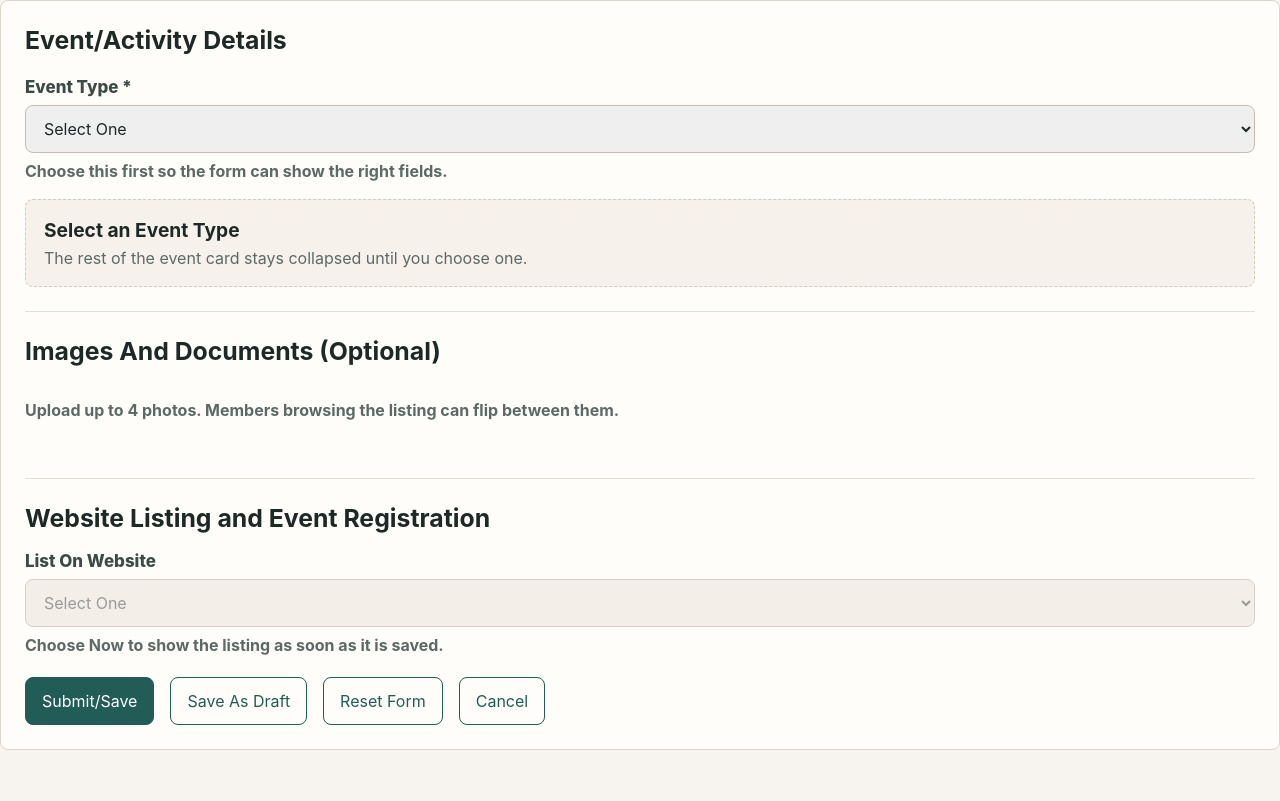
Test: EventForm payment type checkboxes › preserves the entered cost when switching Online -> Free -> Online instead of silently zeroing it
Select "Workshop" in the dropdown labelled "Event Type": (640, 129) [25,105,1255,153]
(page scrolled)
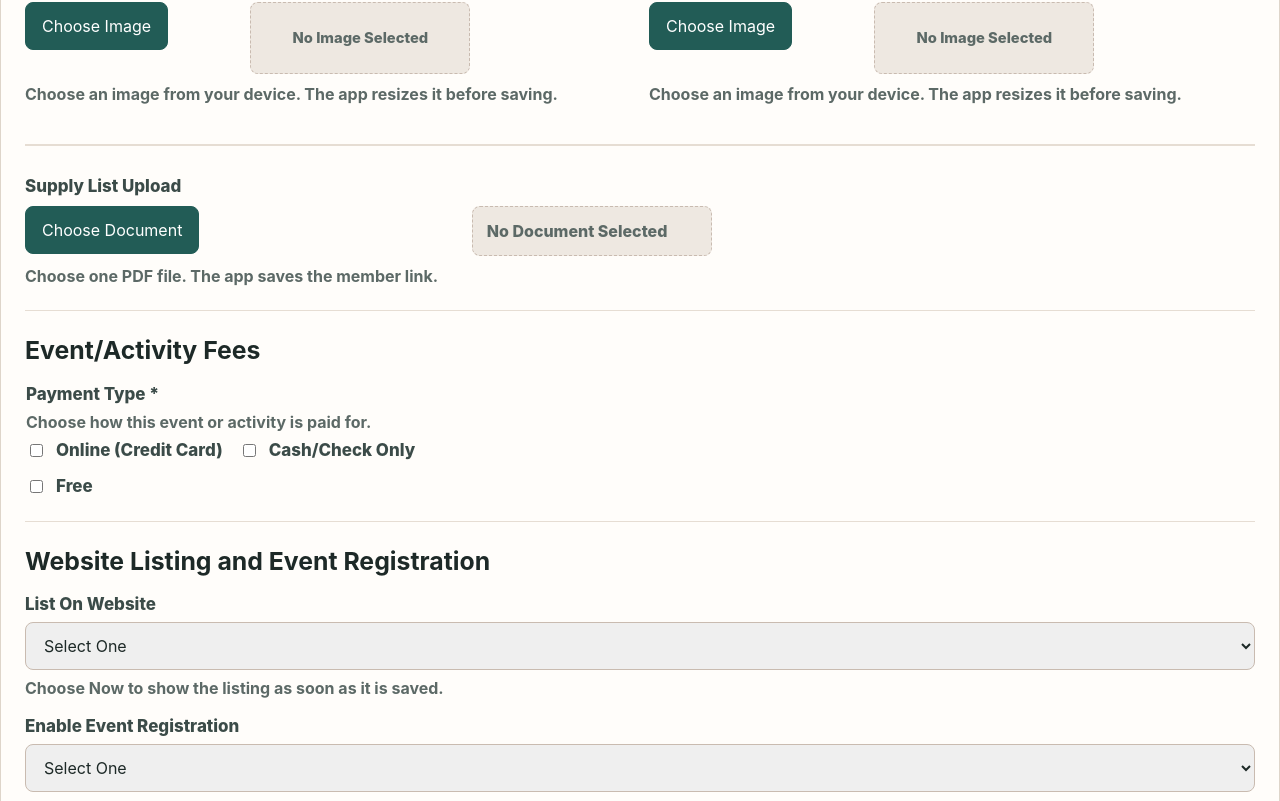
Click the checkbox labelled "Online (Credit Card)": (36, 450) [30,444,43,456]
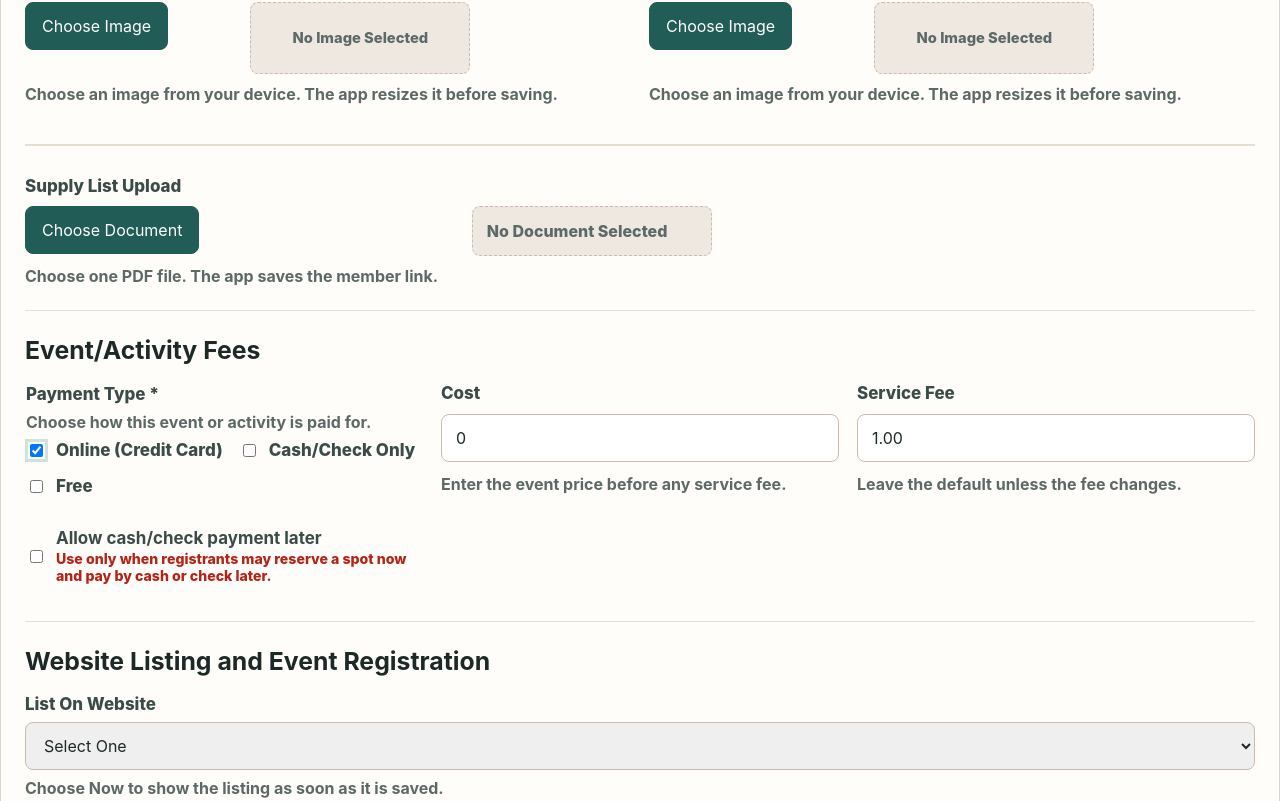
Replace the text in the number field labelled "Cost Enter the event price before any service fee." with "70": (640, 438) [441,414,839,462]
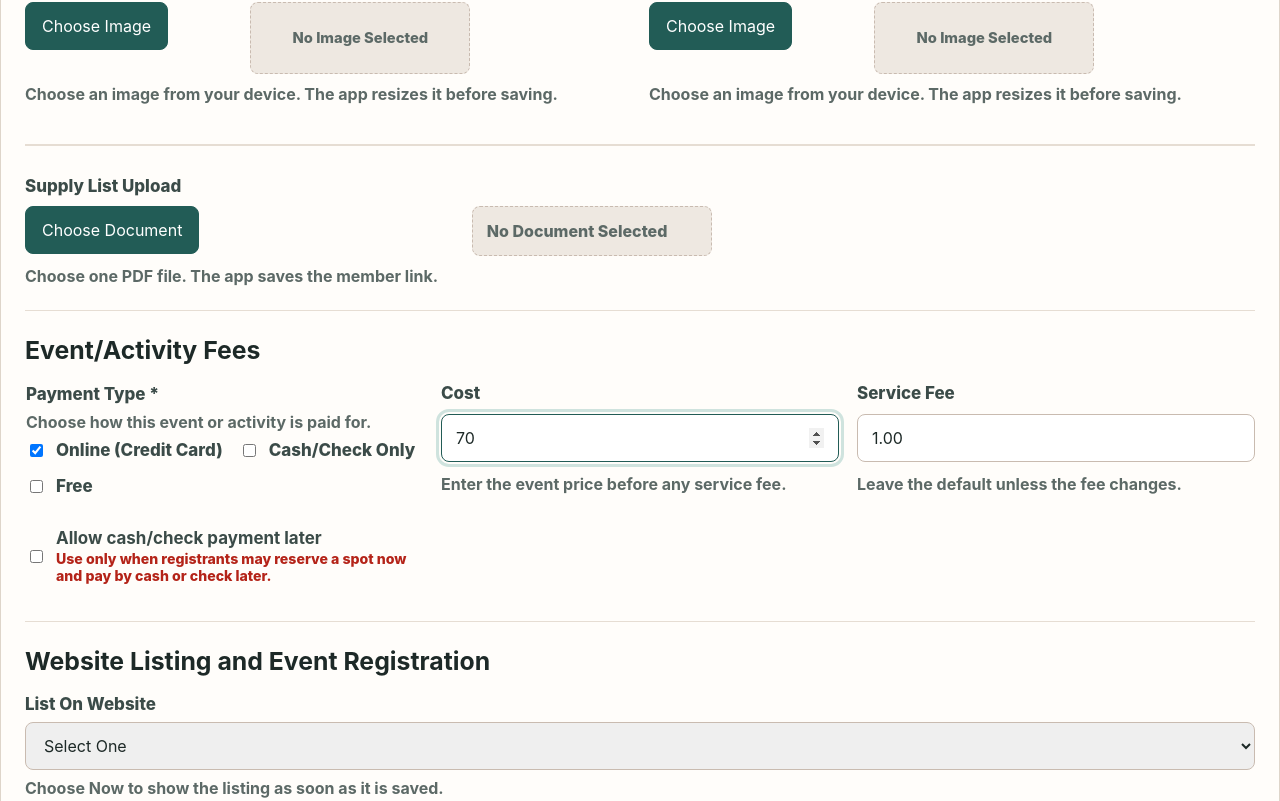
Click the checkbox labelled "Free": (36, 486) [30,480,43,492]
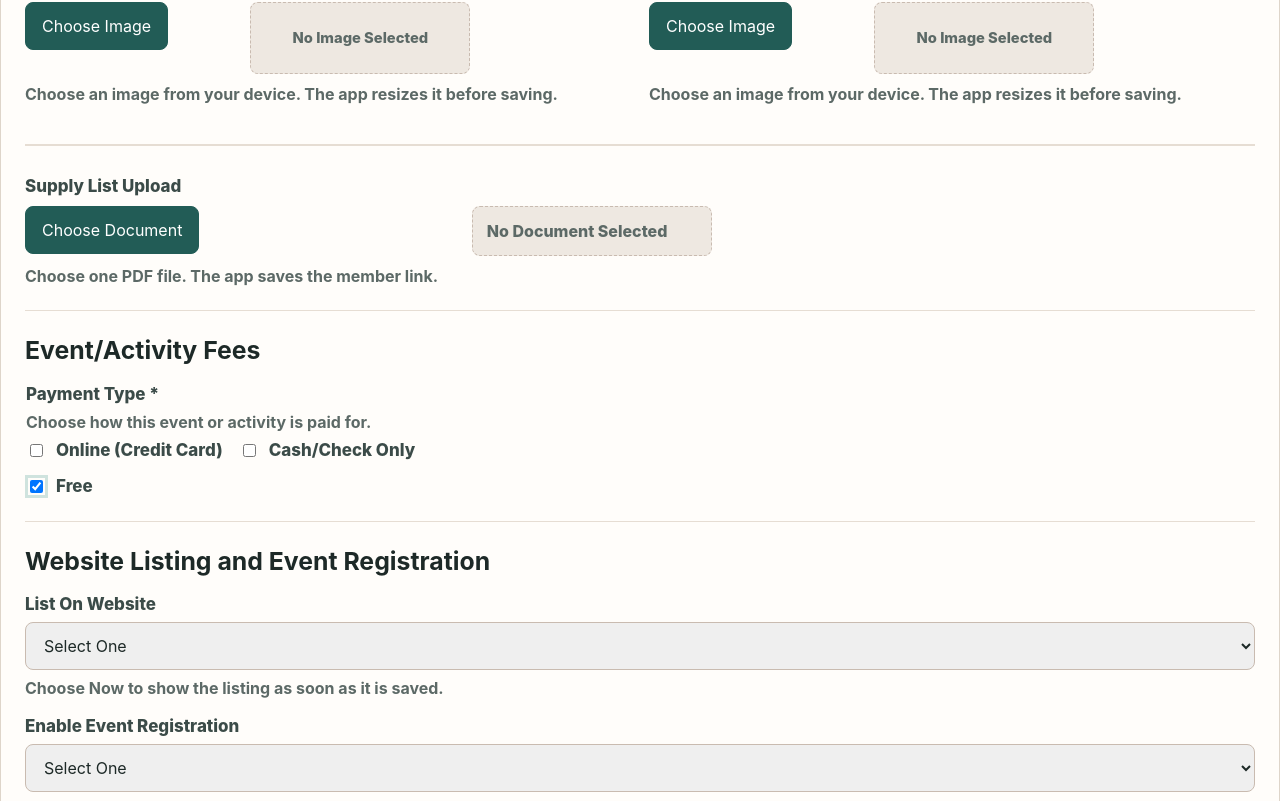
Click the checkbox labelled "Online (Credit Card)": (36, 450) [30,444,43,456]
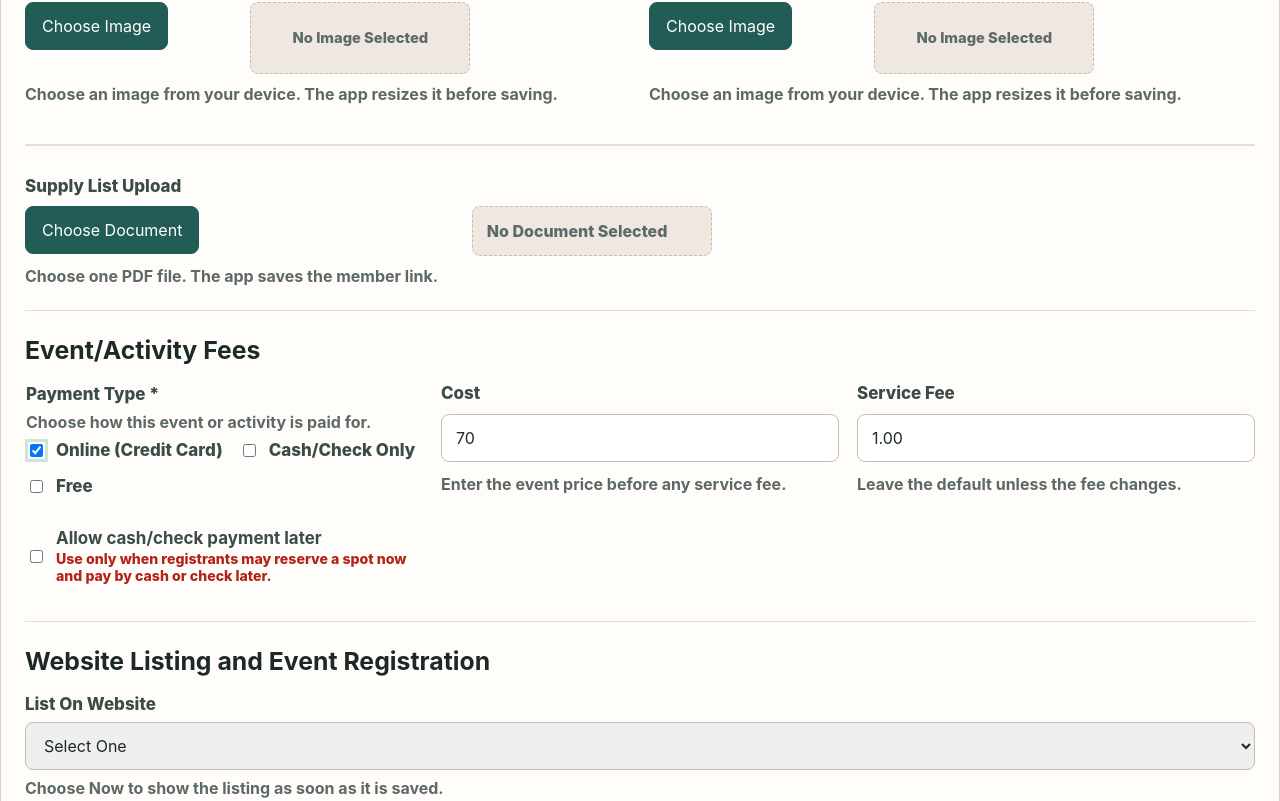
Now the number field labelled "Cost Enter the event price before any service fee." holds "70", box [441,414,839,462]
